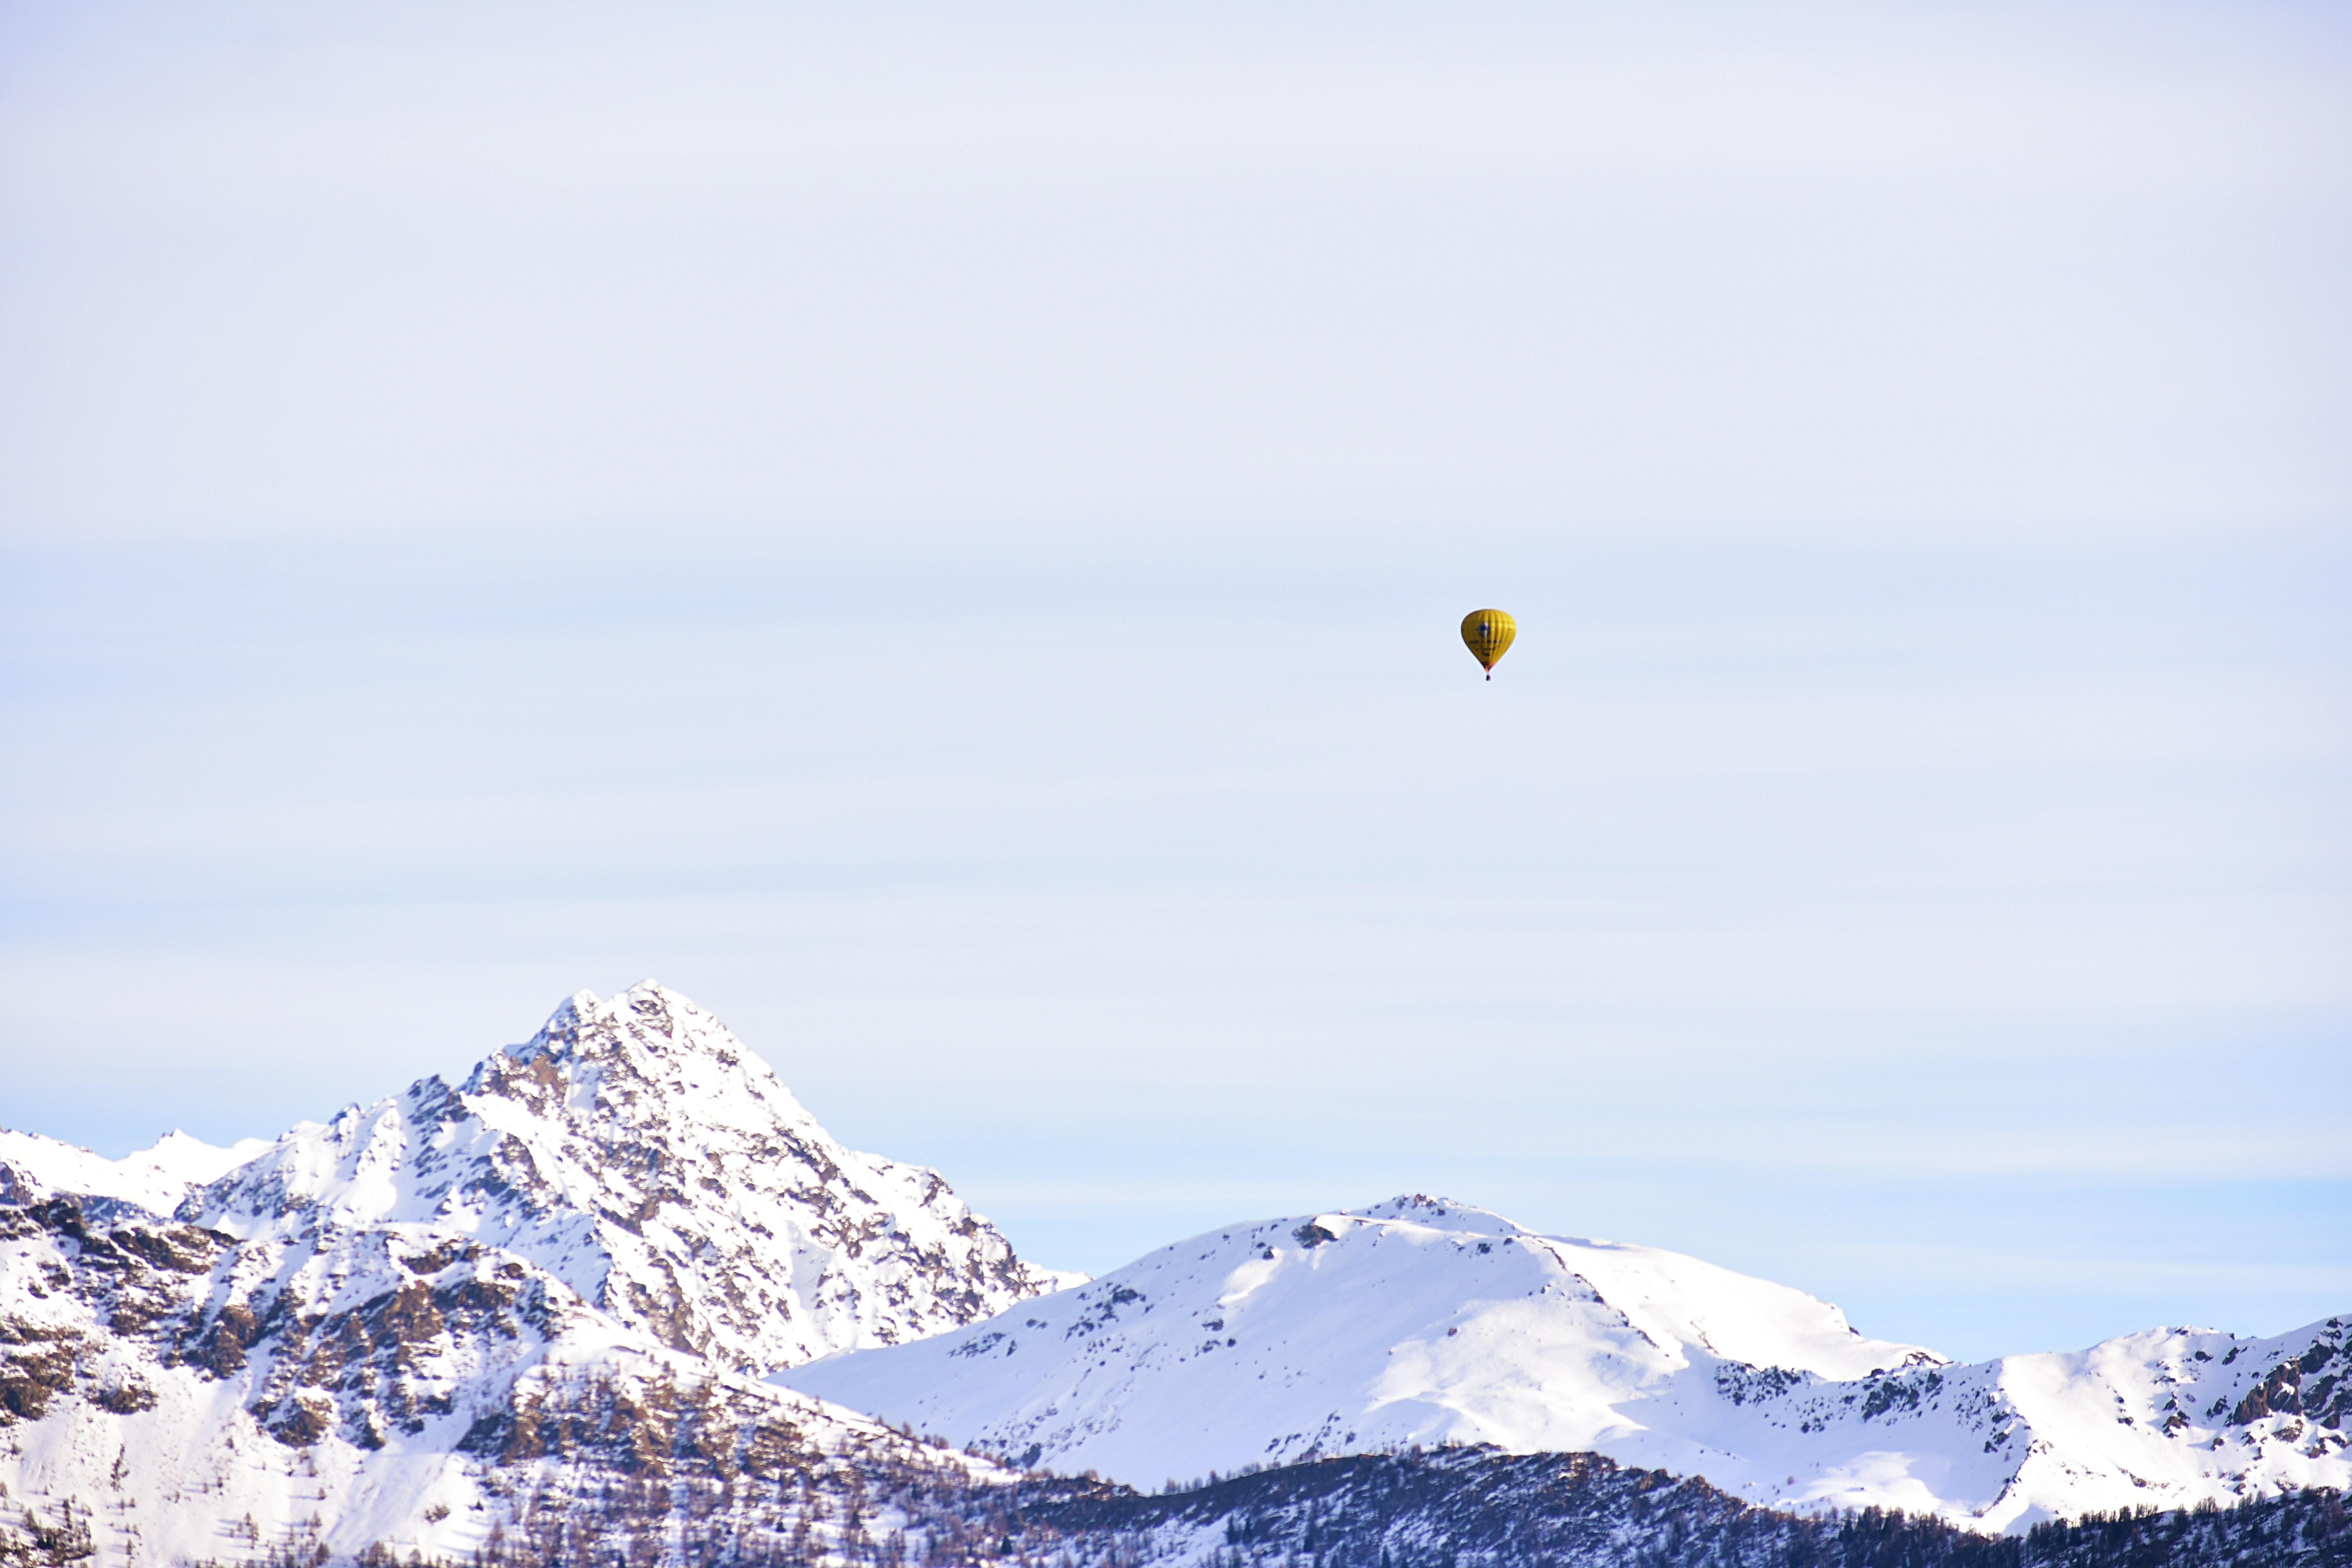hot air ballon: (1461, 610, 1517, 681)
